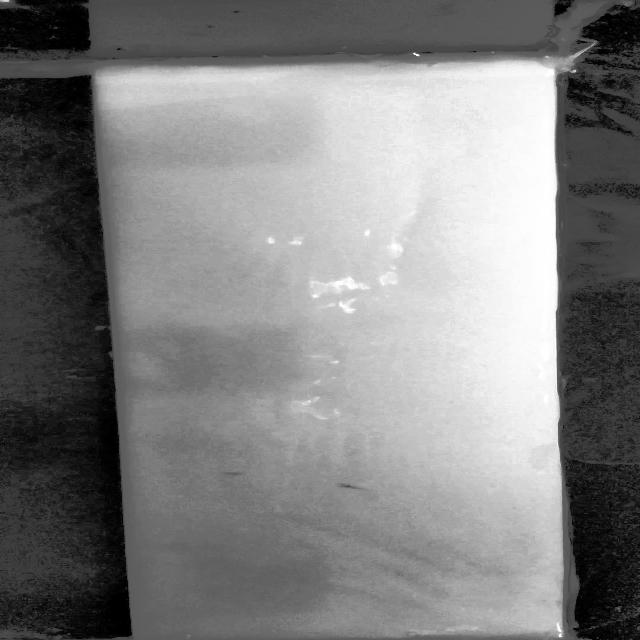shrimp: (334, 476, 377, 494), (212, 468, 250, 479)
